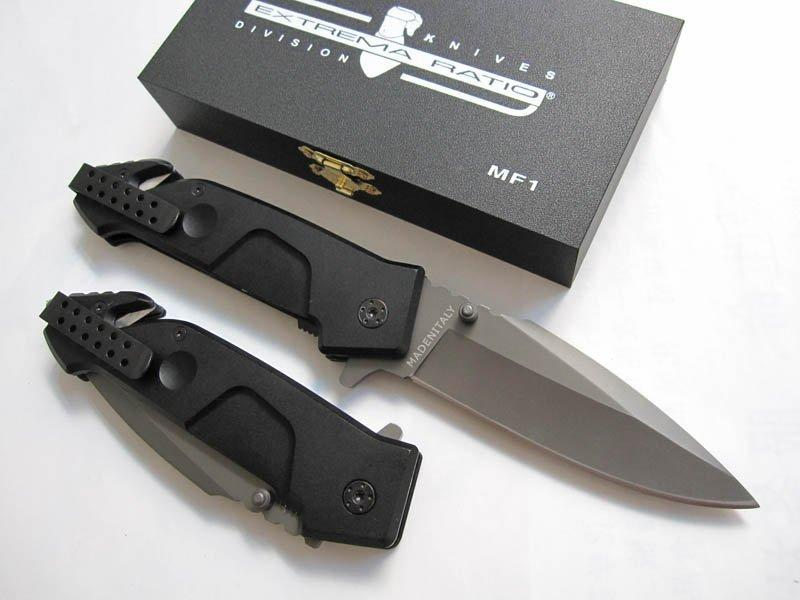knife: (376, 282, 777, 524)
